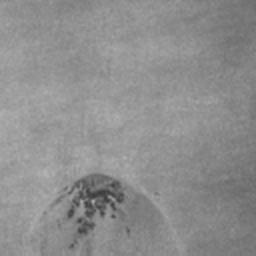Iron sheet ash: (69, 173, 124, 223), (77, 227, 88, 234), (68, 209, 74, 219)
